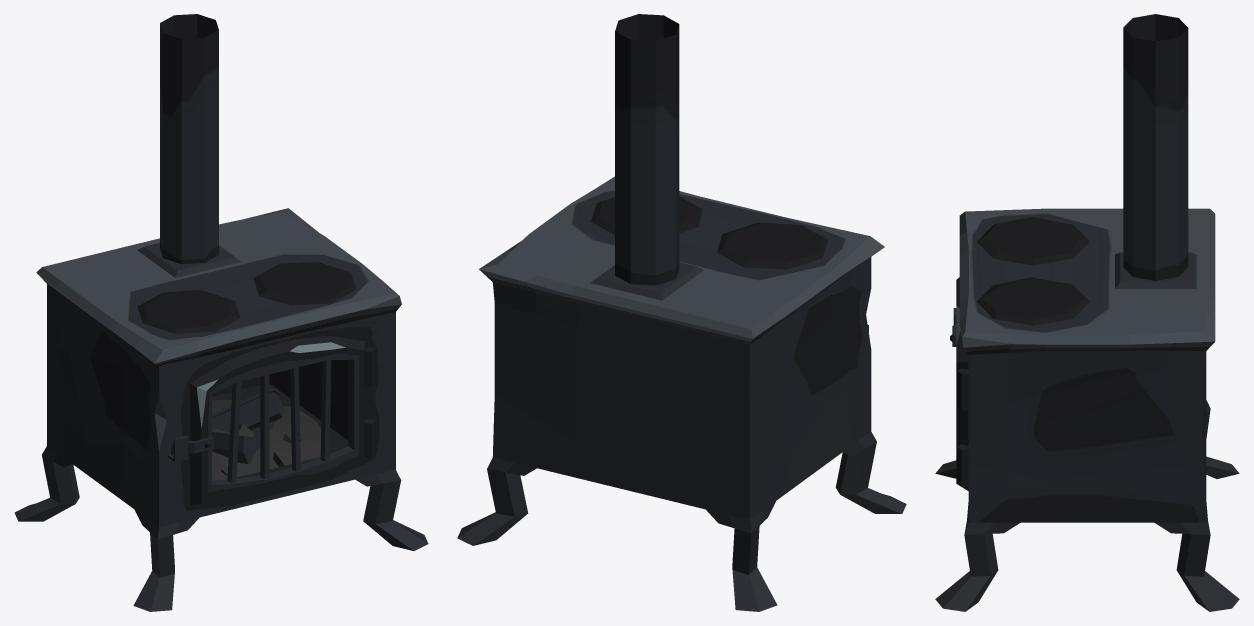
The model's file is SM_Stove.fbx.
3 views of the same model, side by side, from view 1: azimuth 30°, elevation 25°; view 2: azimuth 150°, elevation 25°; view 3: azimuth 270°, elevation 25° (orthographic). The views are drawn at different scales.
Parts seen in each view (by area): view 1: SM_Stove, SM_Stove_Door; view 2: SM_Stove; view 3: SM_Stove, SM_Stove_Door.
Part boxes in pixels (<box>): SM_Stove: <box>14,14,428,611</box>; SM_Stove_Door: <box>190,336,364,505</box>; SM_Stove: <box>457,14,906,611</box>; SM_Stove: <box>935,14,1239,611</box>; SM_Stove_Door: <box>956,277,968,490</box>.
Size of the model in its own units: 135 by 212 by 115.
